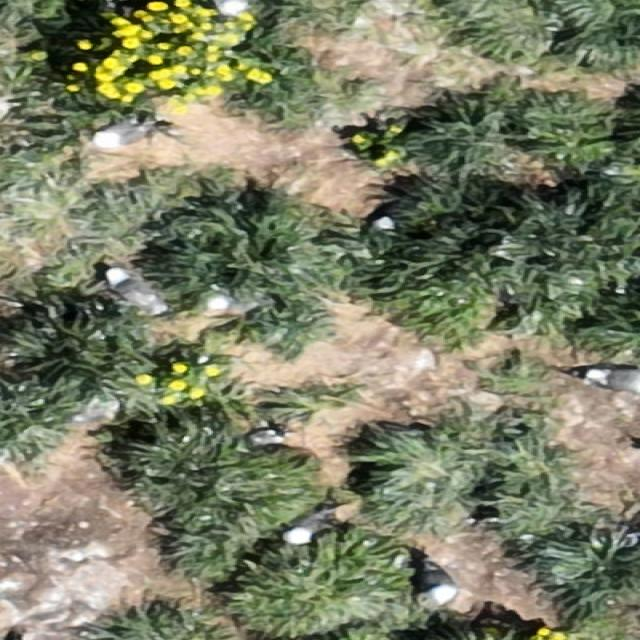umineko: (416, 557, 469, 609), (104, 265, 150, 308), (182, 291, 240, 317), (97, 122, 145, 147), (593, 368, 640, 392), (365, 215, 397, 247), (287, 515, 325, 541), (248, 428, 278, 445)
